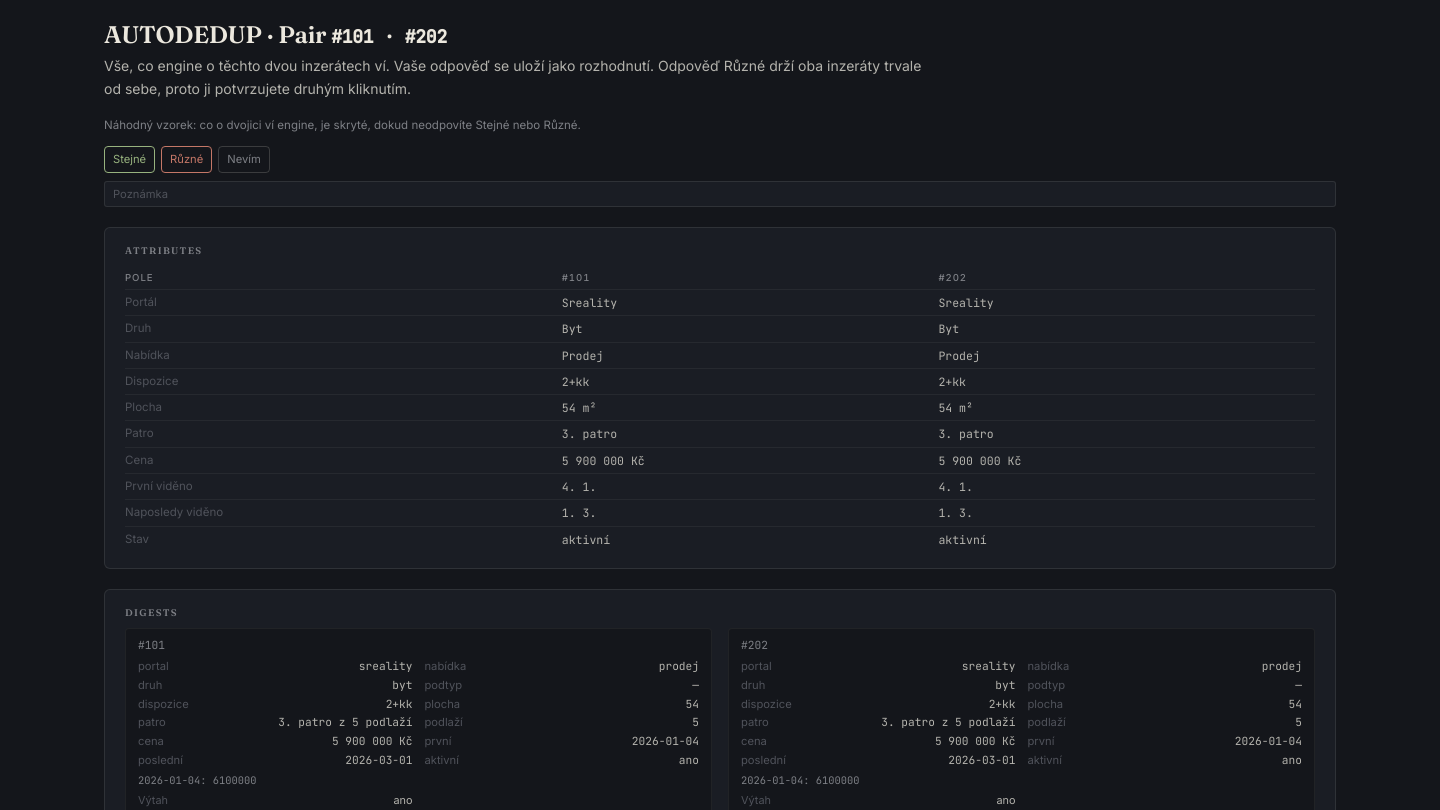
<AutodedupPair> › withholds the engine's view on a blind pair of the random sample until answered
Check: the text "co o dvojici ví engine, je skryté" is shown, box [104,118,581,132]
Check: the text "band" is not shown
Click the button "Stejné" at [130, 159], box [104,146,155,173]
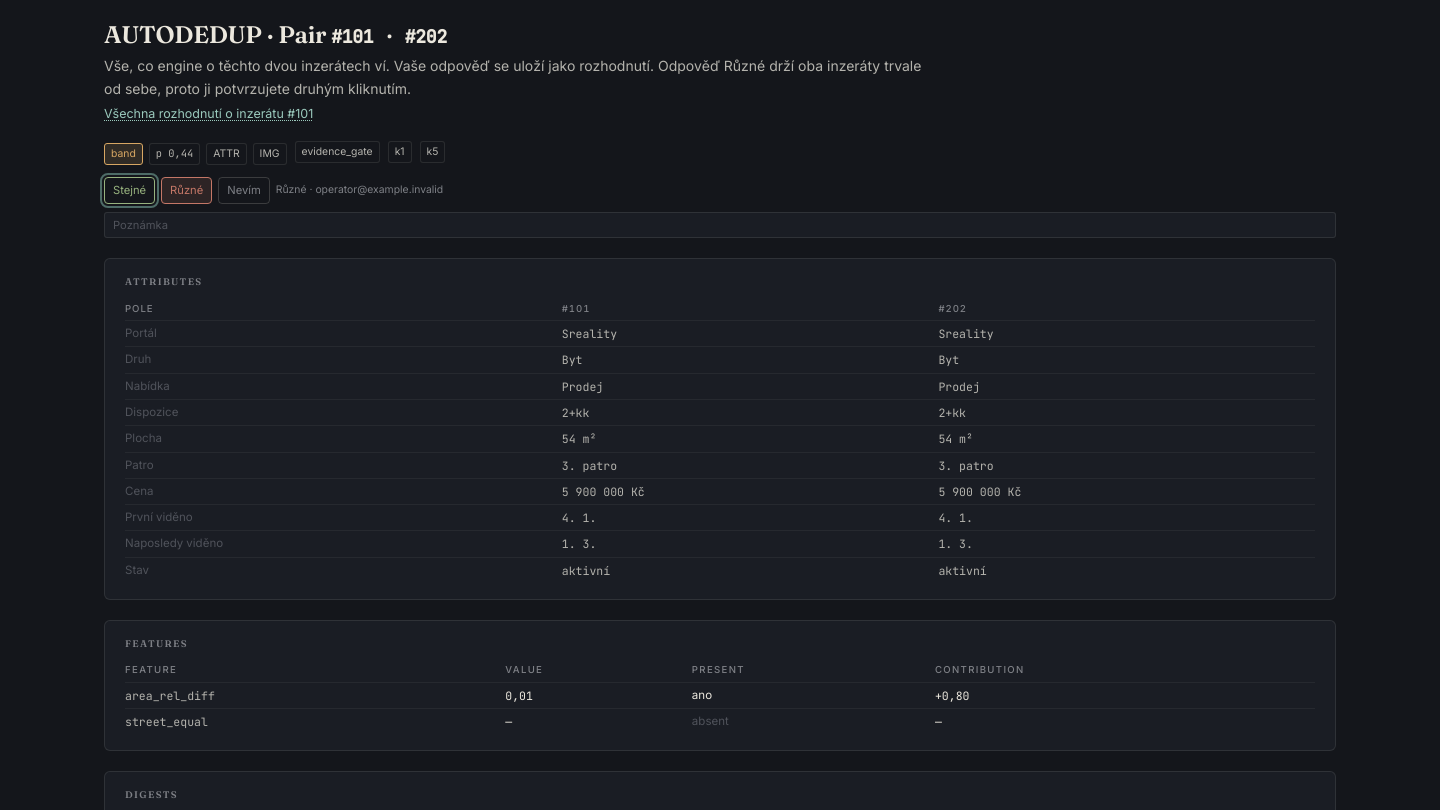
Check: the text "area_rel_diff" is shown, box [125,682,505,708]
Check: the text "band" is shown, box [104,143,143,165]
Check: the text "evidence_gate" is shown, box [294,141,380,163]
